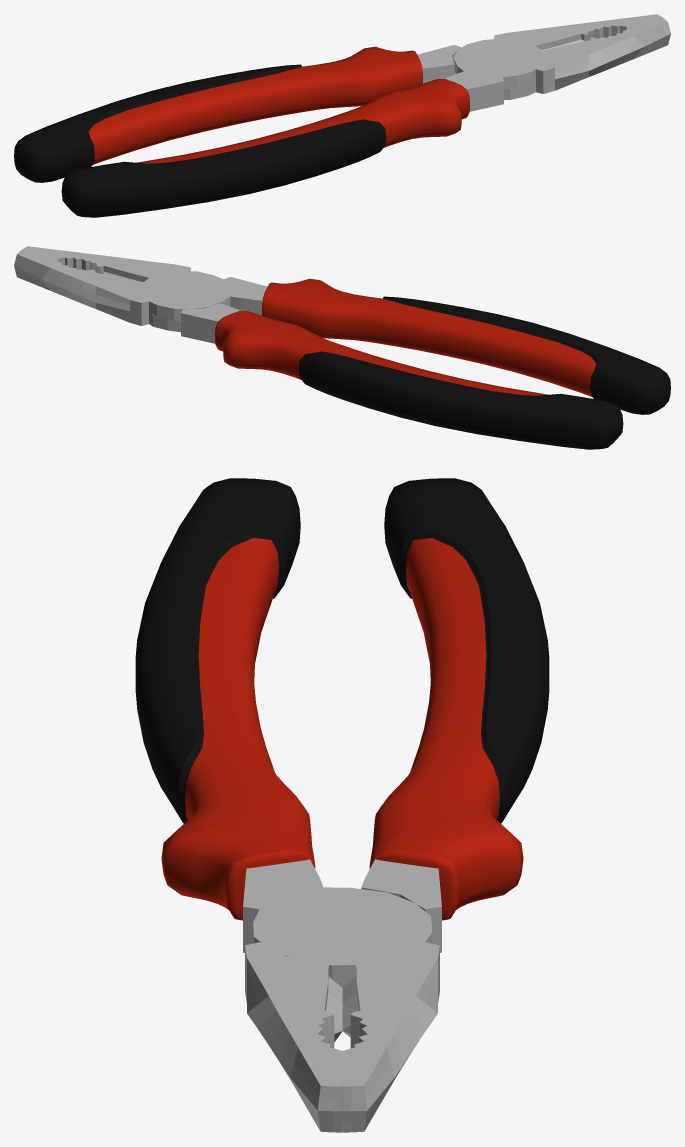
File: TangKombinasi.fbx
The picture shows the model from 3 angles, top to bottom: view 1: azimuth 30°, elevation 25°; view 2: azimuth 150°, elevation 25°; view 3: azimuth 270°, elevation 25°; orthographic projection. The views are drawn at different scales.
Visible parts, largest first — view 1: TangKombinasiKanan.002; view 2: TangKombinasiKanan.002; view 3: TangKombinasiKanan.002.
Part boxes in pixels (bbox=[...]): TangKombinasiKanan.002: bbox=[14, 14, 670, 217]; TangKombinasiKanan.002: bbox=[14, 246, 670, 449]; TangKombinasiKanan.002: bbox=[135, 478, 549, 1132].
Bounding box in the file's own units: 21.67 × 1.29 × 6.24.
